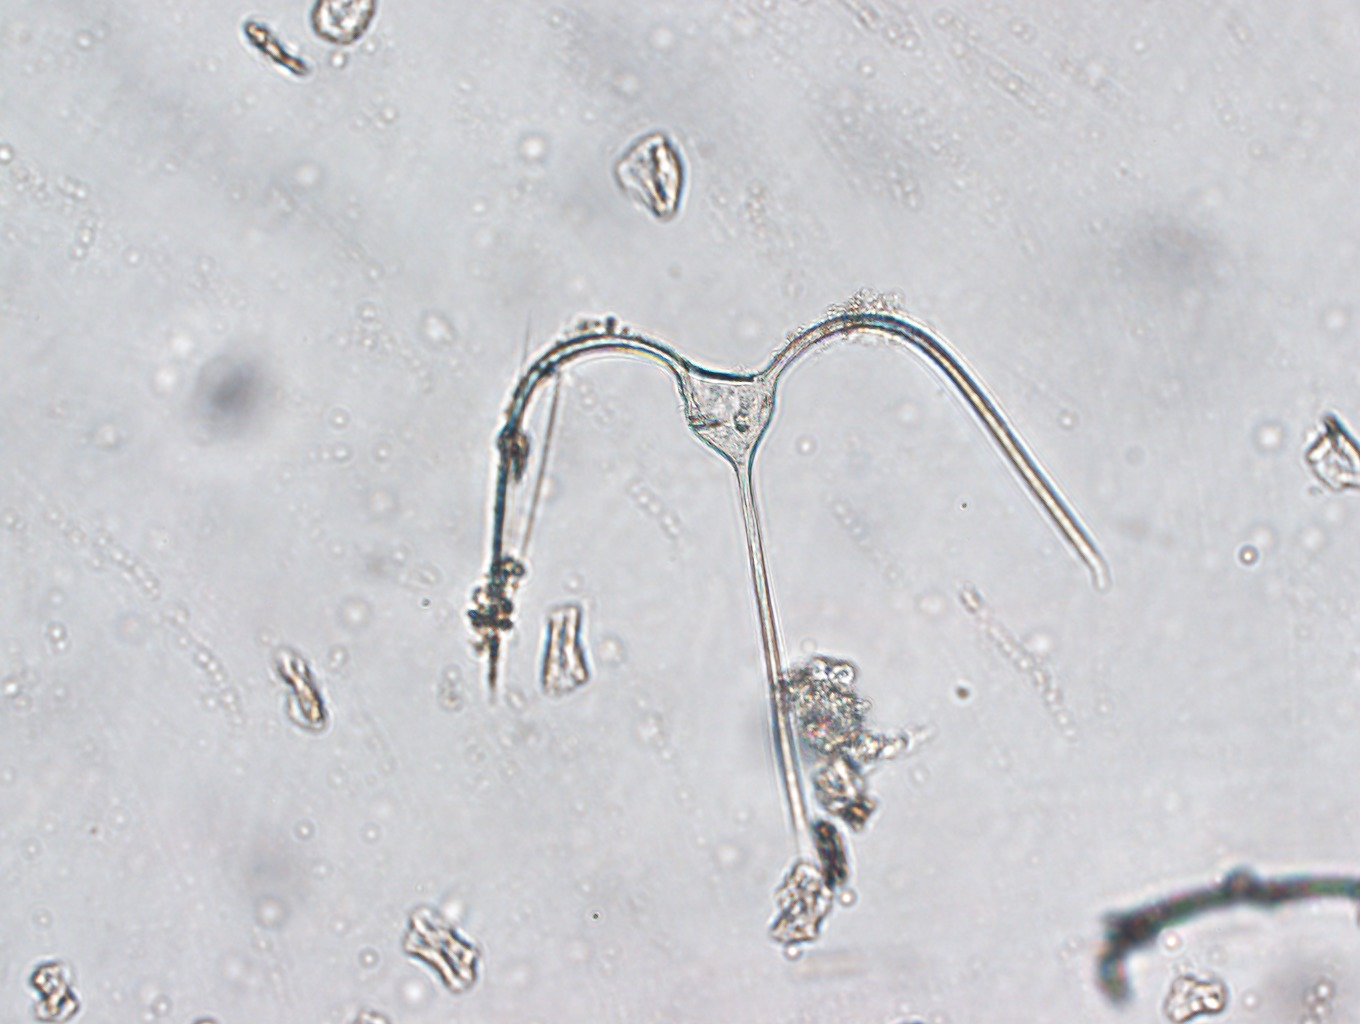ceratium trichoceros: (486, 311, 1110, 830)
